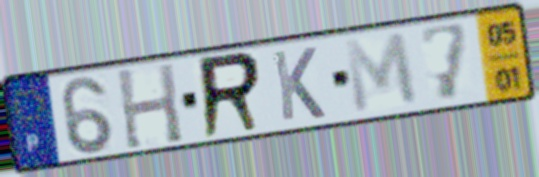6: (59, 73, 117, 158)
7: (419, 19, 472, 106)
H: (113, 60, 186, 152)
K: (269, 44, 328, 124)
M: (340, 29, 422, 117)
R: (196, 48, 266, 143)
